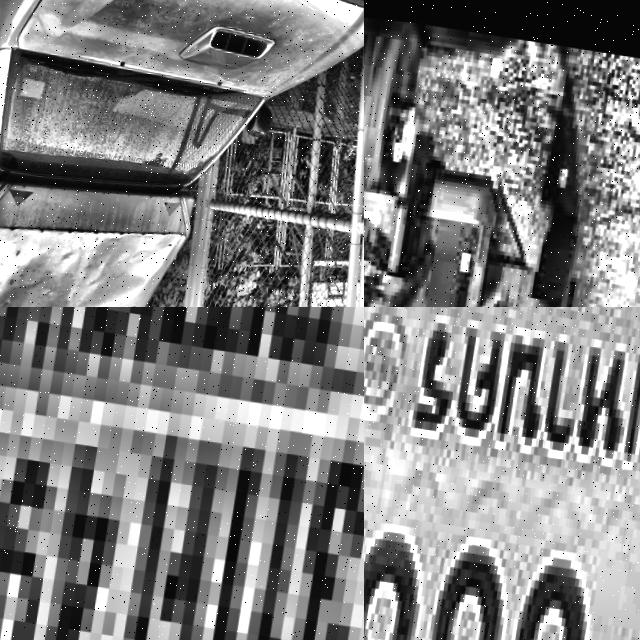license-plate: (0, 307, 364, 640), (364, 307, 640, 640)
